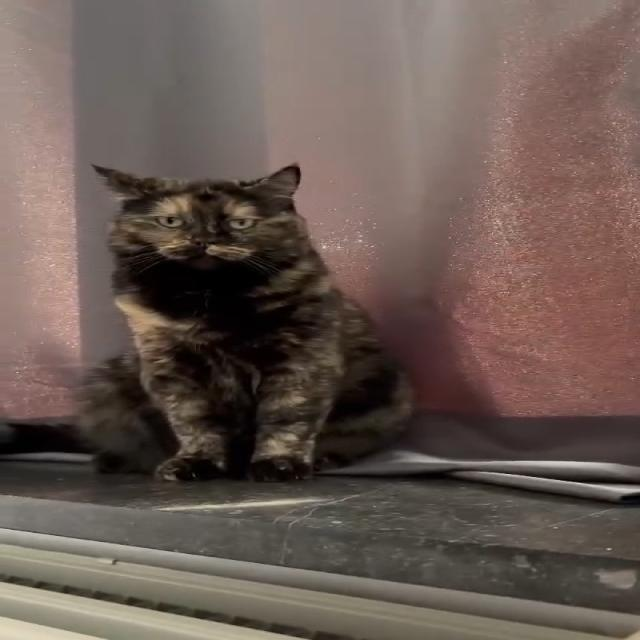authorized: (75, 161, 416, 482)
